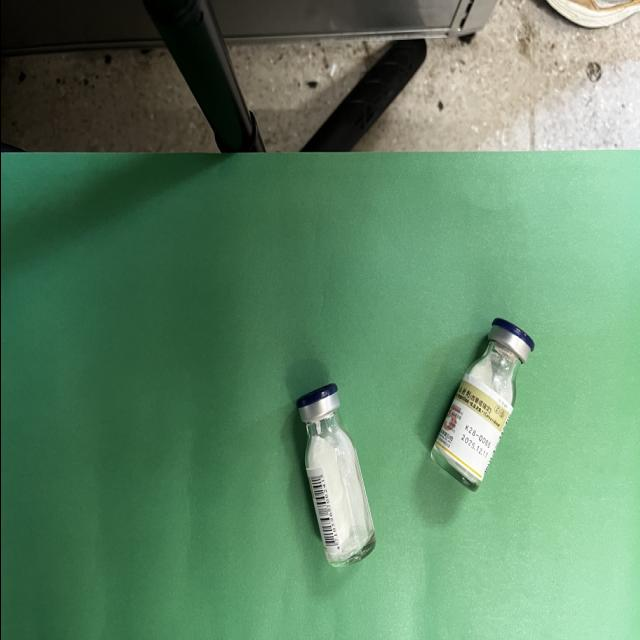Vials: (432, 318, 533, 490), (296, 383, 374, 566)
